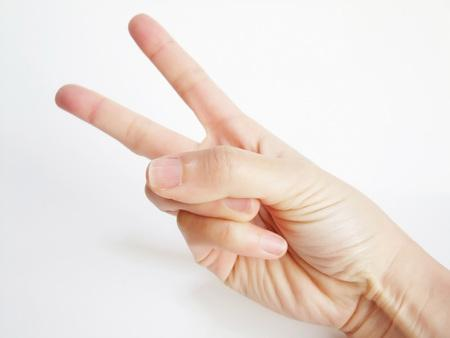peace_sign: (47, 2, 403, 338)
